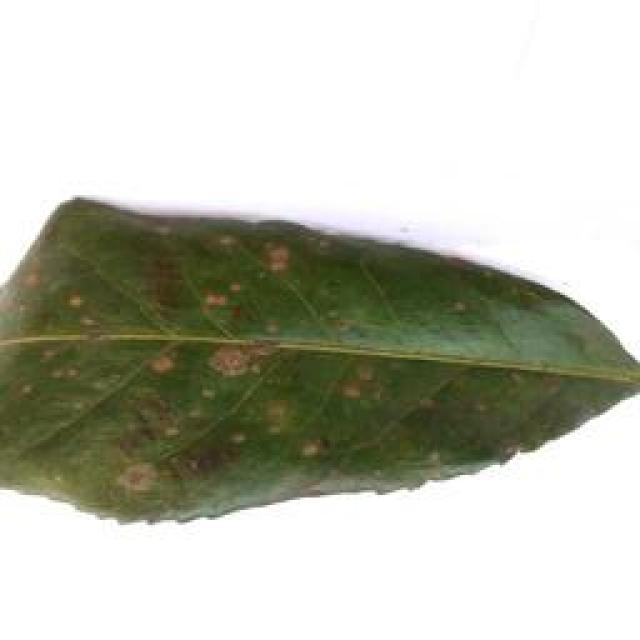Algal Leaf Spot: (0, 195, 638, 528)
